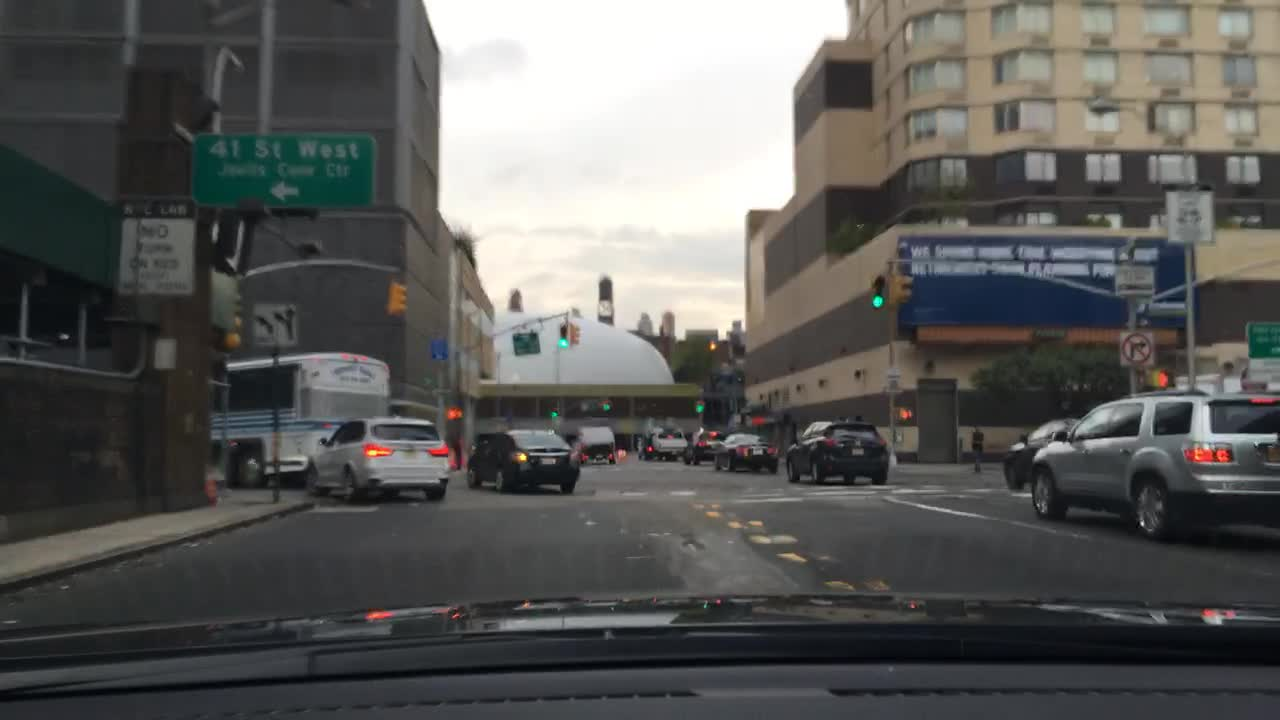bus: (215, 350, 393, 483)
car: (303, 412, 450, 500), (464, 423, 582, 494), (784, 420, 889, 486), (1001, 417, 1082, 493), (712, 430, 779, 472), (683, 427, 728, 467), (577, 423, 617, 466), (639, 422, 686, 454)
person: (967, 422, 984, 471)
traffic light: (1027, 385, 1279, 537), (386, 282, 406, 318), (892, 273, 912, 304), (870, 275, 882, 309), (1156, 369, 1178, 386), (894, 407, 912, 420), (546, 407, 560, 422), (560, 324, 568, 349), (597, 399, 612, 411), (570, 325, 580, 343), (696, 401, 703, 414)
traffic sign: (190, 134, 379, 201), (111, 198, 197, 292), (1165, 191, 1215, 246), (251, 301, 298, 345), (1244, 319, 1278, 361), (1118, 331, 1153, 366), (1113, 266, 1155, 295), (511, 330, 543, 355), (880, 368, 904, 395), (428, 334, 447, 360)
